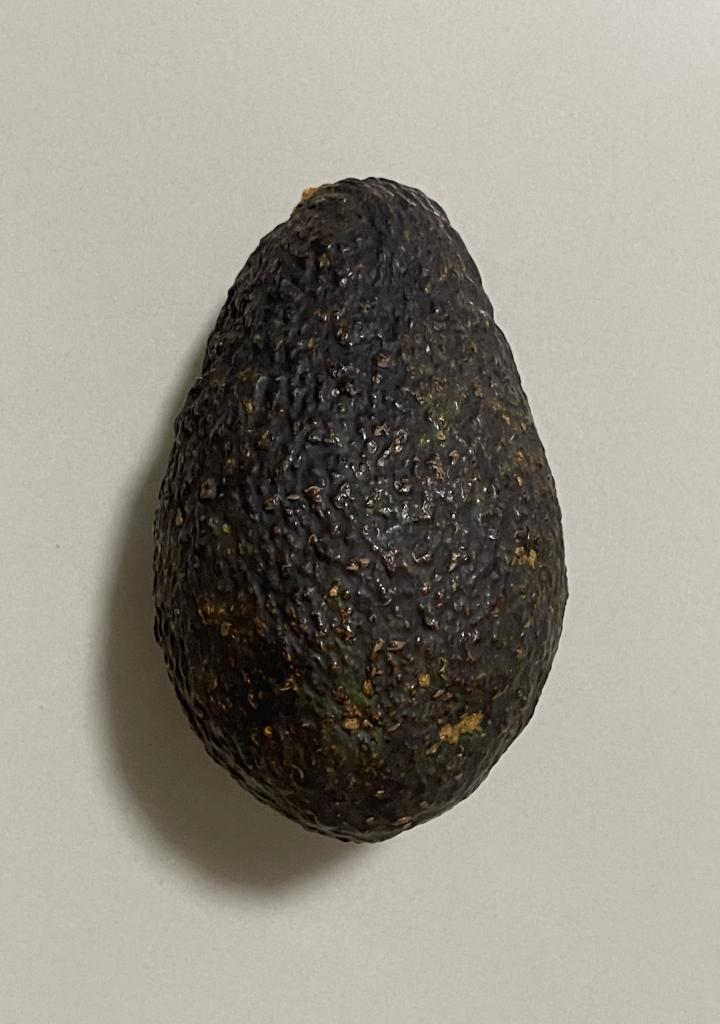Level2: (140, 168, 580, 854)
